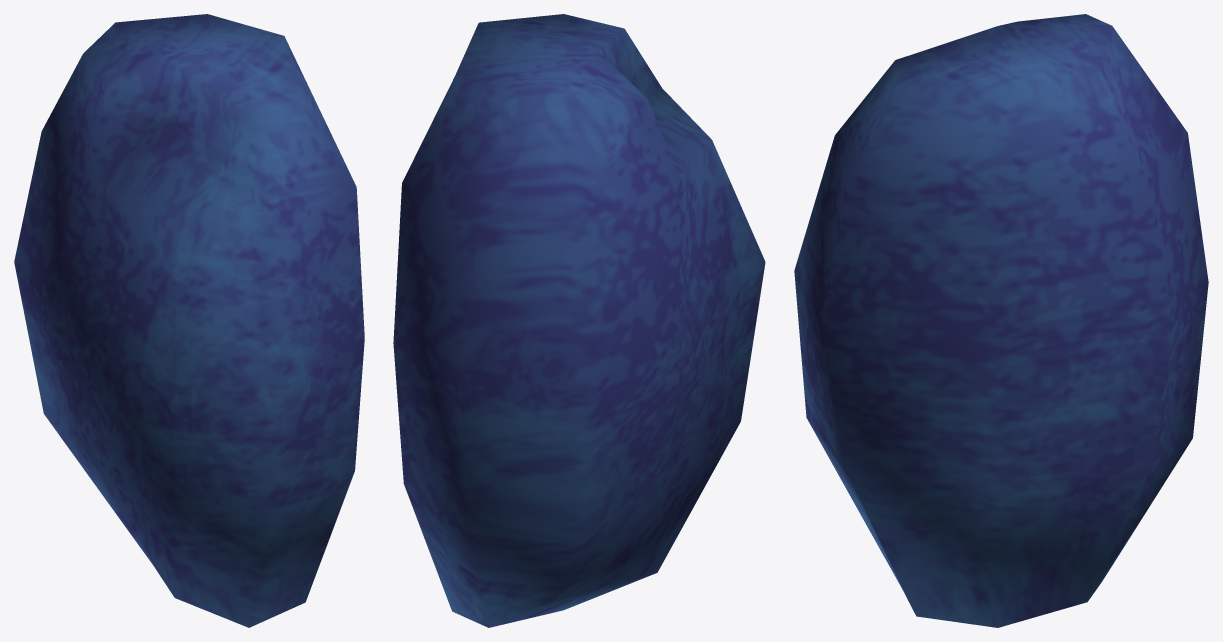
The model's file is roca6.FBX.
3 views of the same model, side by side, from view 1: azimuth 30°, elevation 25°; view 2: azimuth 150°, elevation 25°; view 3: azimuth 270°, elevation 25° (orthographic). The views are drawn at different scales.
Parts seen in each view (by area): view 1: Roca6; view 2: Roca6; view 3: Roca6.
Boxes of the visible parts, bbox=[...] form: Roca6: bbox=[14, 14, 364, 627]; Roca6: bbox=[393, 14, 765, 627]; Roca6: bbox=[794, 14, 1208, 627].
Size of the model in its own units: 34.77 by 49.16 by 71.89.
